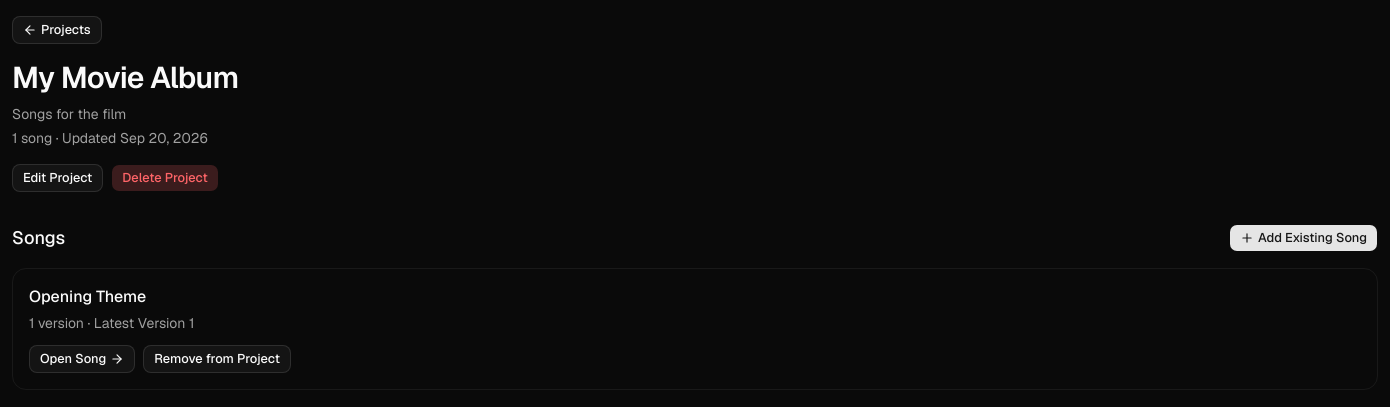
Test case: ProjectDetailsView › removes a song from the project without deleting it, and reloads
Expected: the list item with test id "project-song-item" is shown, [12,268,1378,390]
Click the button with aria-label "Remove Opening Theme from this project" at (217, 359), box [143,345,291,373]
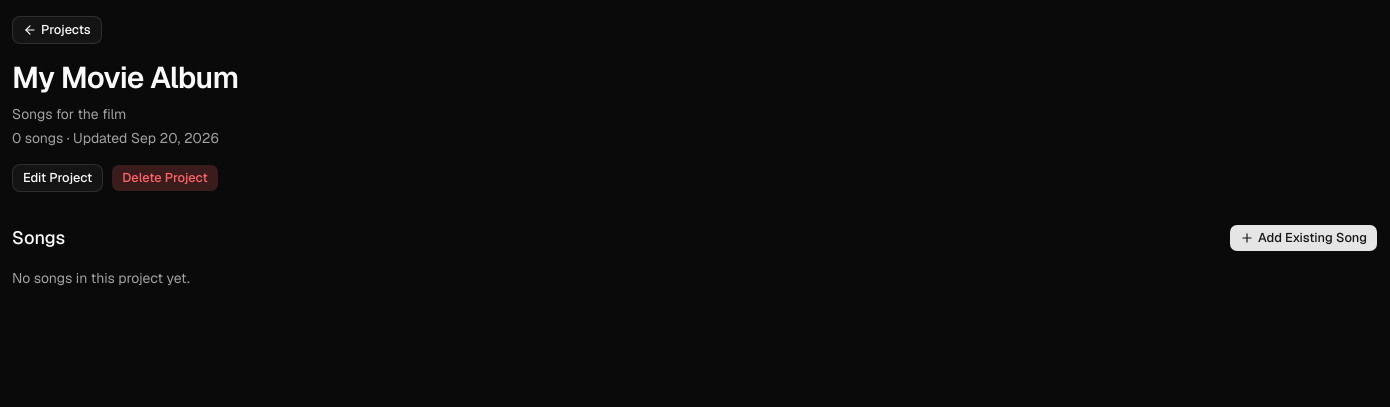
Result: the list item with test id "project-song-item" is gone
Result: the text "No songs in this project yet." is shown at [12,269,190,287]
